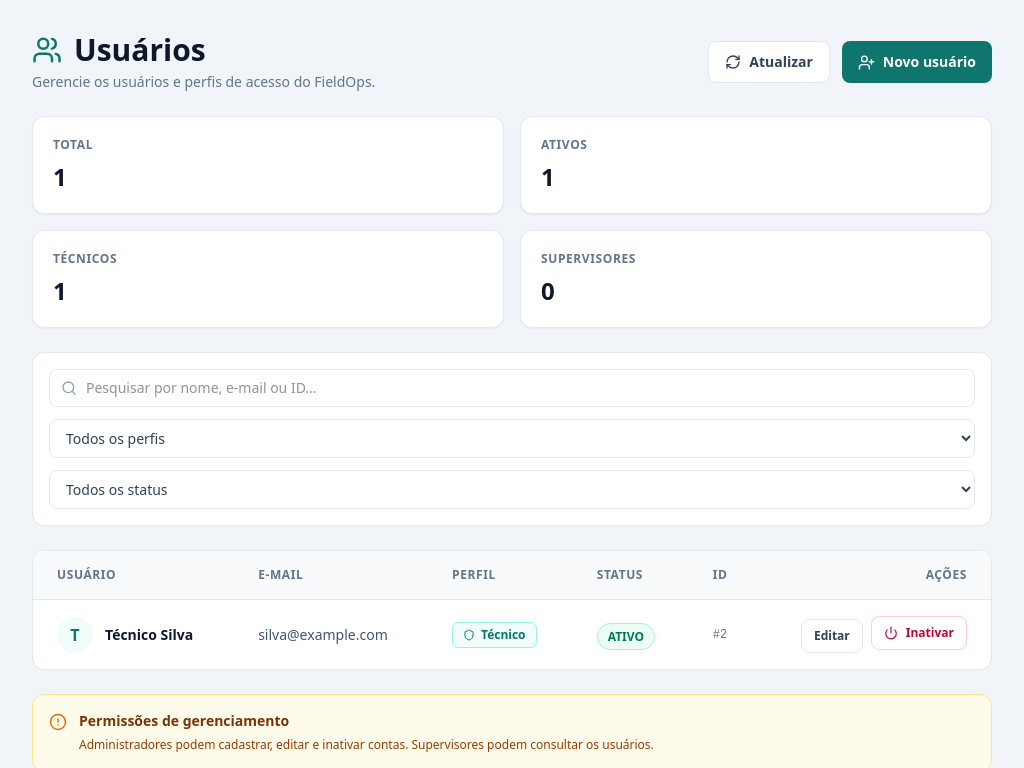
Scenario: mantém o formulário aberto quando a API rejeita e-mail duplicado
The image size is (1024, 768).
Step 1. Click the button with aria-label "Editar Técnico Silva" → (832, 636), box [801,619,863,653]
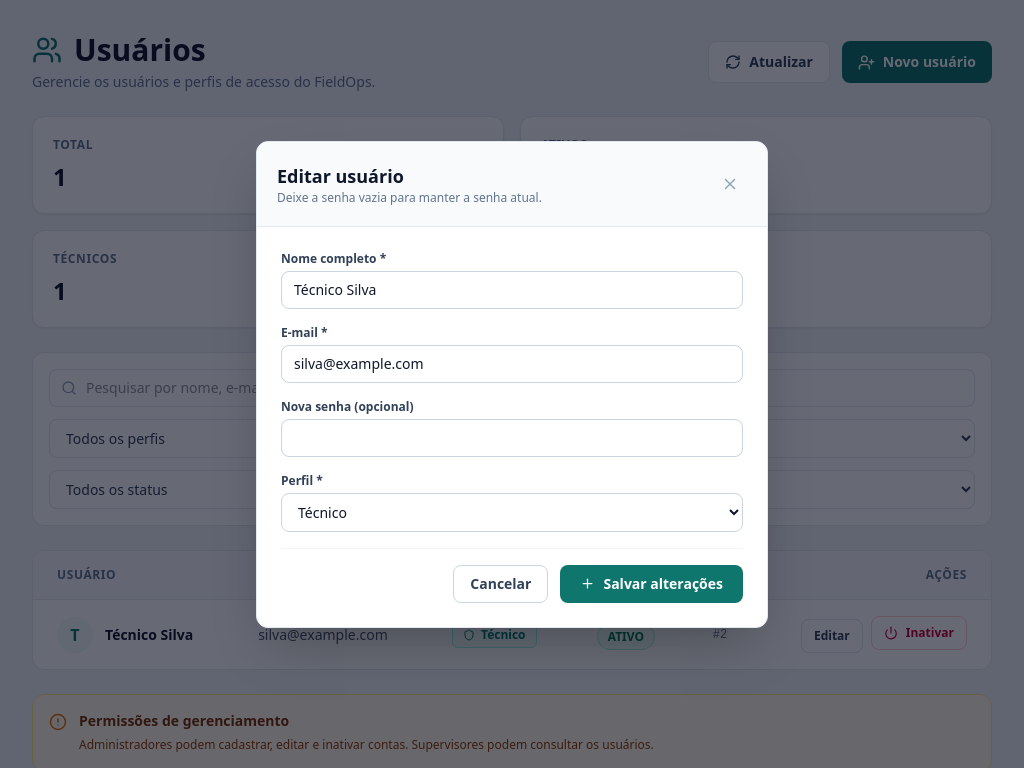
Step 2. Click the button "Salvar alterações" → (652, 584), box [560,564,743,602]
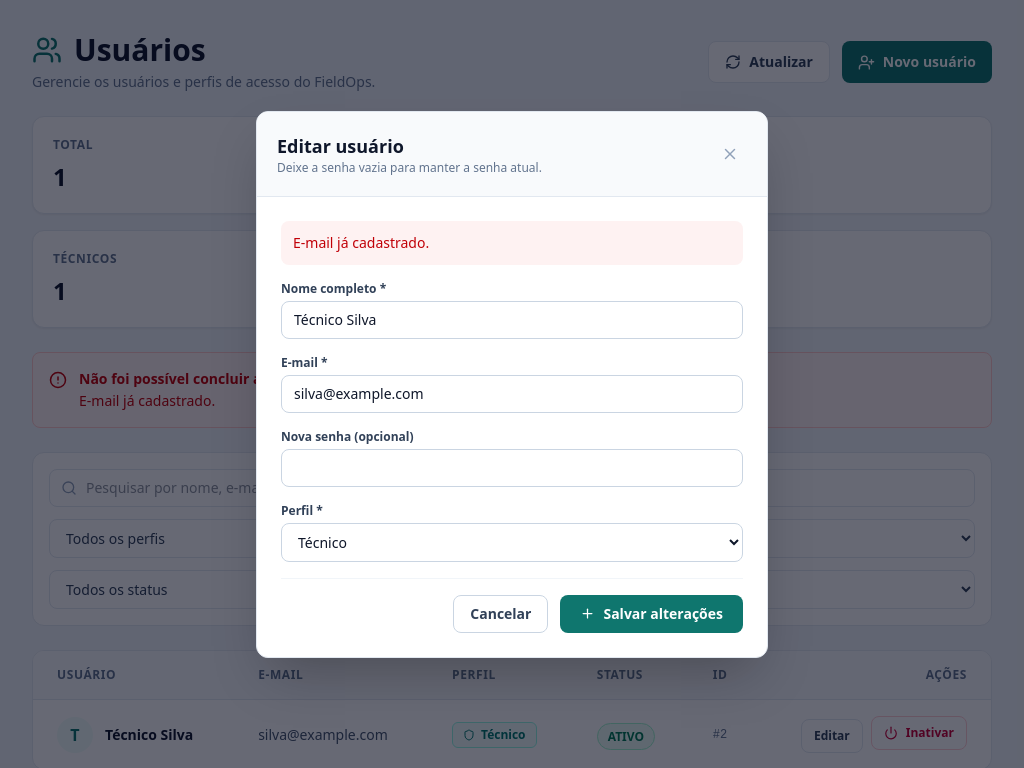
Now the field labelled "E-mail *" holds "silva@example.com", box [281,374,743,412]
Now the message reads "E-mail já cadastrado.", box [293,232,429,252]
